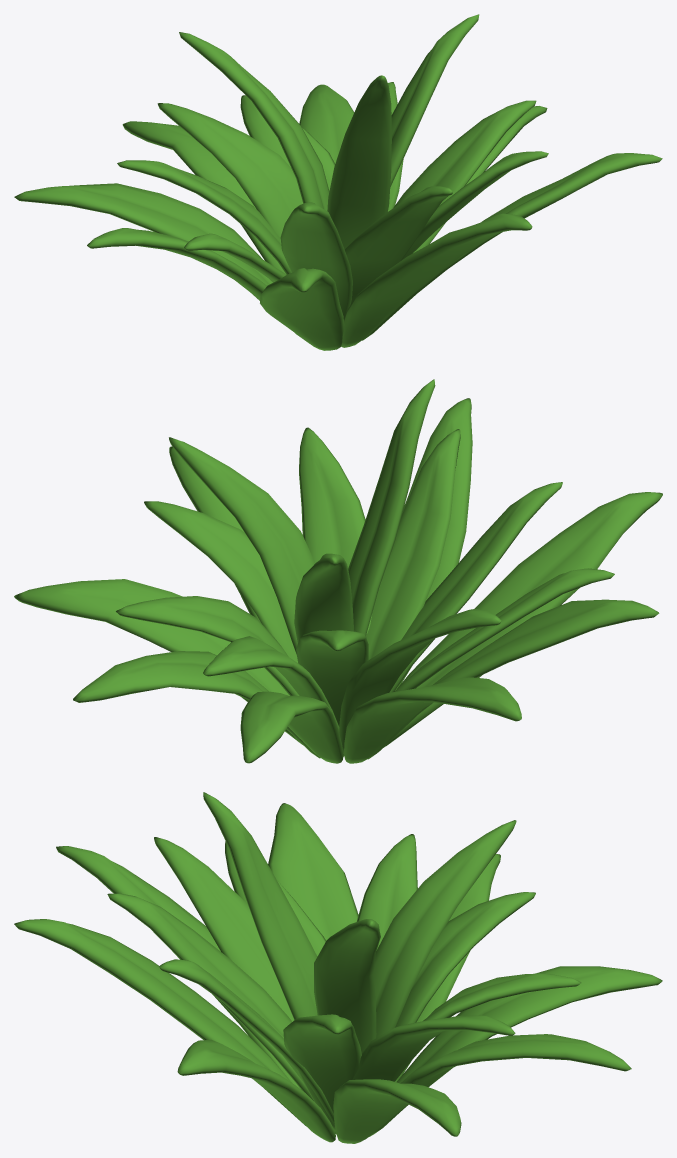
File: plant1.glb
The picture shows the model from 3 angles, top to bottom: view 1: azimuth 30°, elevation 25°; view 2: azimuth 150°, elevation 25°; view 3: azimuth 270°, elevation 25°; orthographic projection. The views are drawn at different scales.
Visible parts, largest first — view 1: Plane.003; view 2: Plane.003; view 3: Plane.003.
Part boxes in pixels (x1,y1,x2,y2): Plane.003: (14,14,662,350); Plane.003: (14,379,662,763); Plane.003: (14,792,662,1143).
Bounding box in the file's own units: 1.02 × 0.5763 × 1.01.
